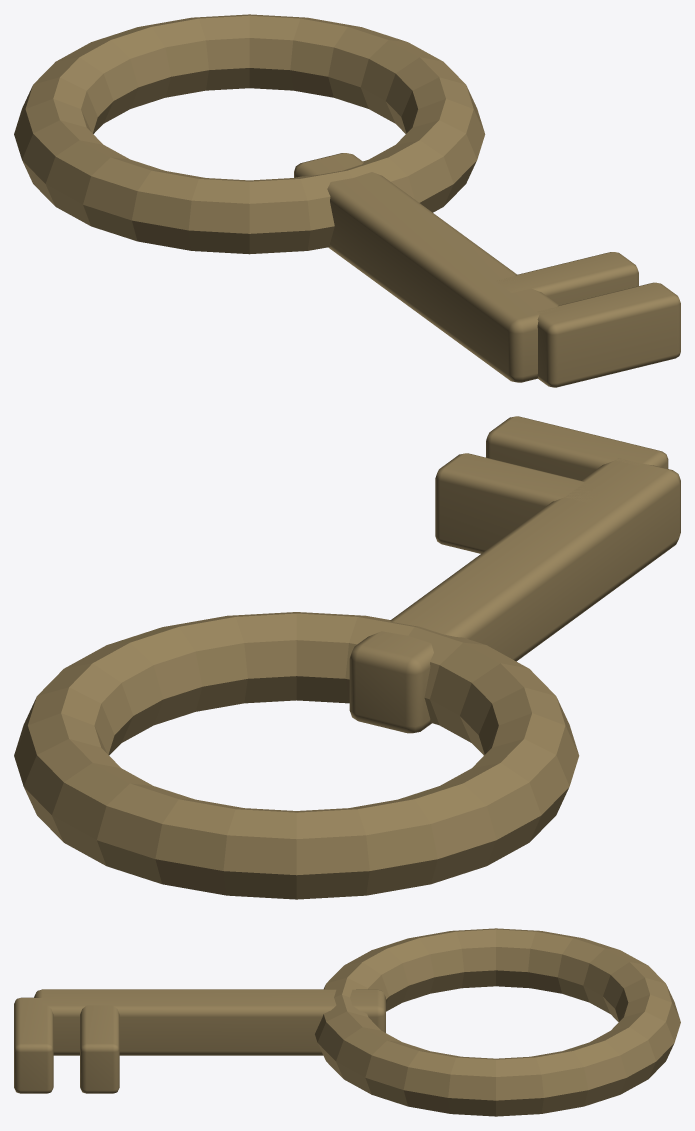
File: key.glb
3 views of the same model, one above another, from view 1: azimuth 30°, elevation 25°; view 2: azimuth 150°, elevation 25°; view 3: azimuth 270°, elevation 25° (orthographic). The views are drawn at different scales.
Parts seen in each view (by area): view 1: key; view 2: key; view 3: key.
Part boxes in pixels (x1,y1,x2,y2): key: [14, 14, 680, 387]; key: [14, 416, 680, 899]; key: [14, 928, 680, 1116].
Size of the model in its own units: 0.168 by 0.028 by 0.303.
